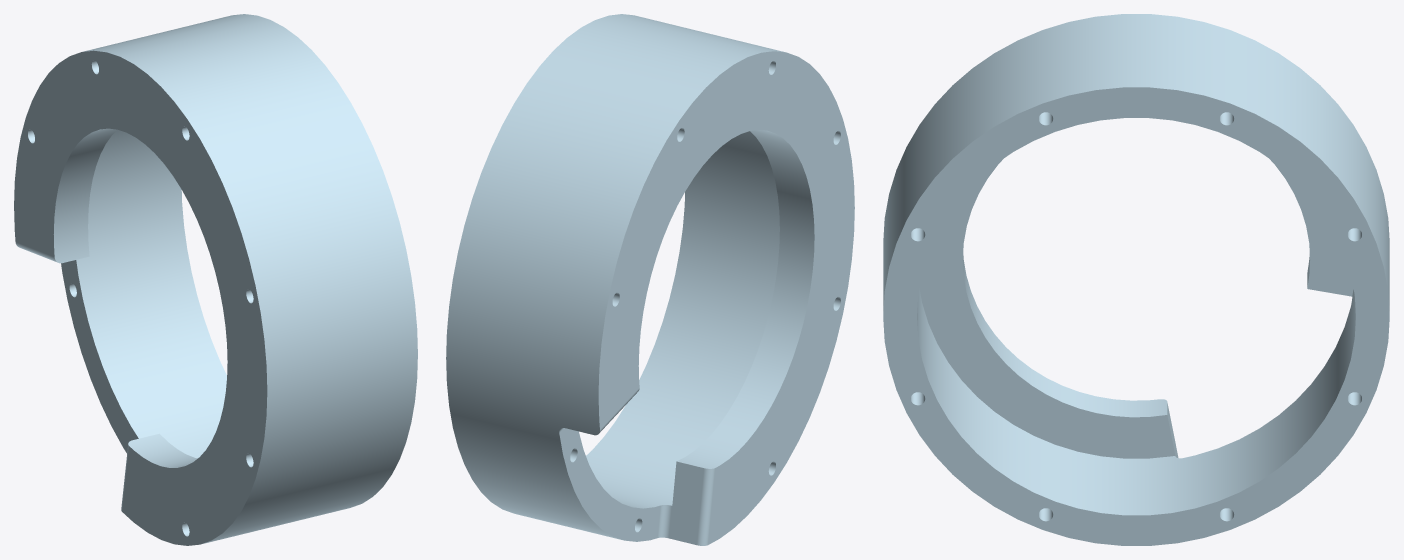
File: Robot_Master Copy 1 - Part 1 (7).gltf
3 renders of one model, left to right at view 1: azimuth 30°, elevation 25°; view 2: azimuth 150°, elevation 25°; view 3: azimuth 270°, elevation 25°, orthographic.
Parts seen in each view (by area): view 1: Part 1; view 2: Part 1; view 3: Part 1.
Boxes of the visible parts, x1=… form: Part 1: x1=14, y1=14, x2=417, y2=545; Part 1: x1=446, y1=14, x2=854, y2=545; Part 1: x1=883, y1=14, x2=1389, y2=545.
Bounding box in the file's own units: 0.036 × 0.1048 × 0.105.
